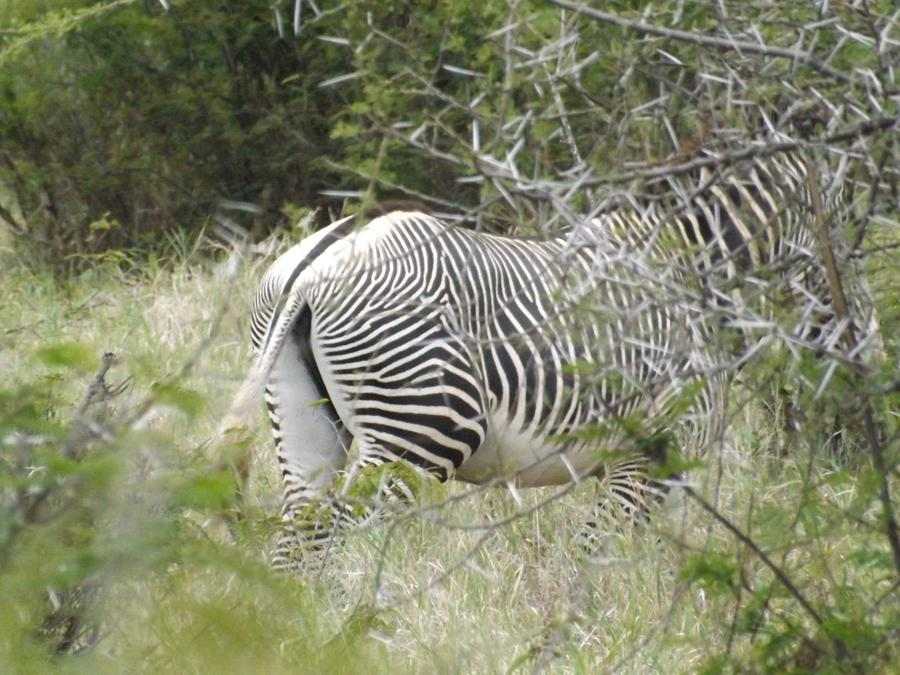zebra_grevys: (265, 201, 599, 445)
